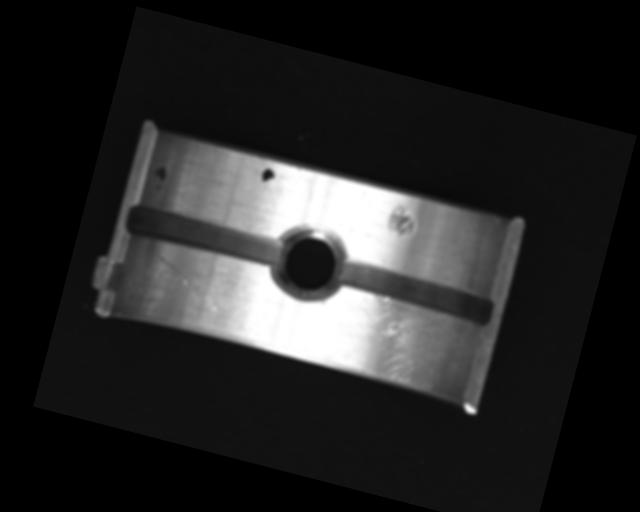blot: (148, 163, 169, 194), (259, 166, 276, 188)
bruise: (385, 199, 420, 240)
gap: (328, 254, 496, 328), (122, 197, 287, 272)
hole: (262, 216, 353, 310)
nick: (146, 253, 228, 312)
scratch: (317, 284, 475, 400)
